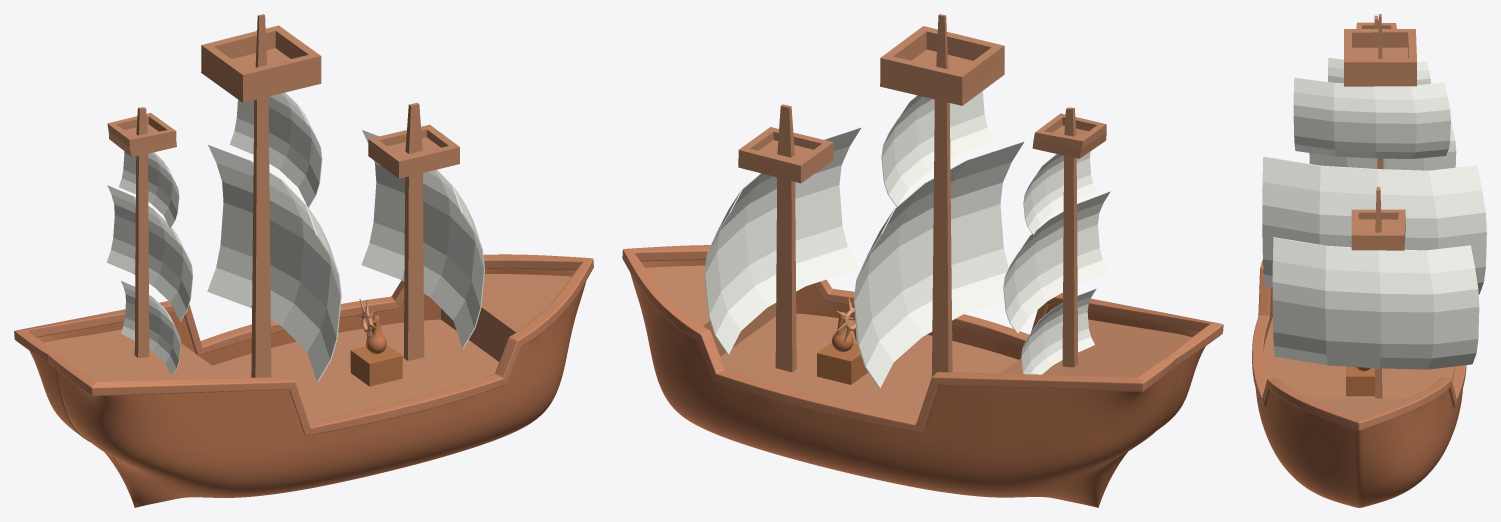
Rendered from ship.fbx.
3 views of the same model, side by side, from view 1: azimuth 30°, elevation 25°; view 2: azimuth 150°, elevation 25°; view 3: azimuth 270°, elevation 25° (orthographic). The views are drawn at different scales.
Visible parts, largest first — view 1: shipDeck, shell, Plane.002, shipTrim, Plane.006, Plane.004, Plane.001, Plane.005, Plane.003, kormilo; view 2: shell, shipDeck, Plane.002, shipTrim, Plane.006, Plane.004, Plane.001, Plane.005, Plane.003, kormilo; view 3: Plane.006, Plane.002, shell, shipDeck, Plane.001, shipTrim, Plane.004, kormilo, Plane.003.
Part boxes in pixels (<box>): shipDeck: <box>44,14,571,422</box>; shell: <box>29,268,586,507</box>; Plane.002: <box>207,144,341,382</box>; shipTrim: <box>14,254,593,435</box>; Plane.006: <box>361,129,484,348</box>; Plane.004: <box>107,185,193,321</box>; Plane.001: <box>230,92,322,207</box>; Plane.005: <box>121,280,180,375</box>; Plane.003: <box>119,151,179,228</box>; kormilo: <box>350,344,402,386</box>; shell: <box>630,260,1205,507</box>; shipDeck: <box>645,14,1191,418</box>; Plane.002: <box>853,141,1024,388</box>; shipTrim: <box>622,245,1223,432</box>; Plane.006: <box>704,127,861,354</box>; Plane.004: <box>1003,191,1110,333</box>; Plane.001: <box>881,91,994,206</box>; Plane.005: <box>1021,288,1096,374</box>; Plane.003: <box>1023,151,1097,234</box>; kormilo: <box>817,342,867,384</box>; Plane.006: <box>1272,237,1479,369</box>; Plane.002: <box>1262,156,1486,294</box>; shell: <box>1255,287,1462,507</box>; shipDeck: <box>1263,14,1454,418</box>; Plane.001: <box>1293,77,1450,158</box>; shipTrim: <box>1252,259,1466,430</box>; Plane.004: <box>1309,120,1456,170</box>; kormilo: <box>1346,366,1374,396</box>; Plane.003: <box>1328,57,1430,85</box>.
Size of the model in its own units: 1800 by 1432 by 777.
